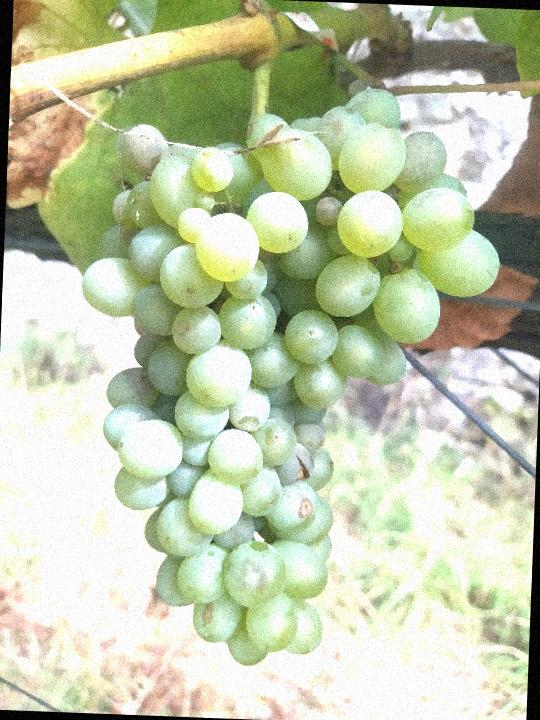grape: (60, 76, 508, 680)
